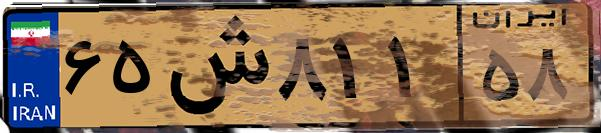1: (385, 28, 445, 110), (330, 28, 385, 110)
5: (475, 38, 525, 113), (110, 28, 158, 98)
6: (57, 26, 110, 100)
8: (270, 28, 330, 110), (525, 38, 570, 115)
ش: (158, 12, 270, 120)
